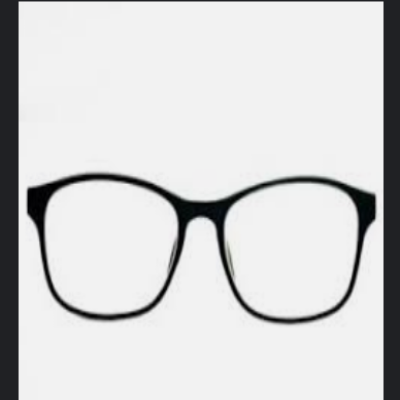glasses: (22, 169, 376, 340)
